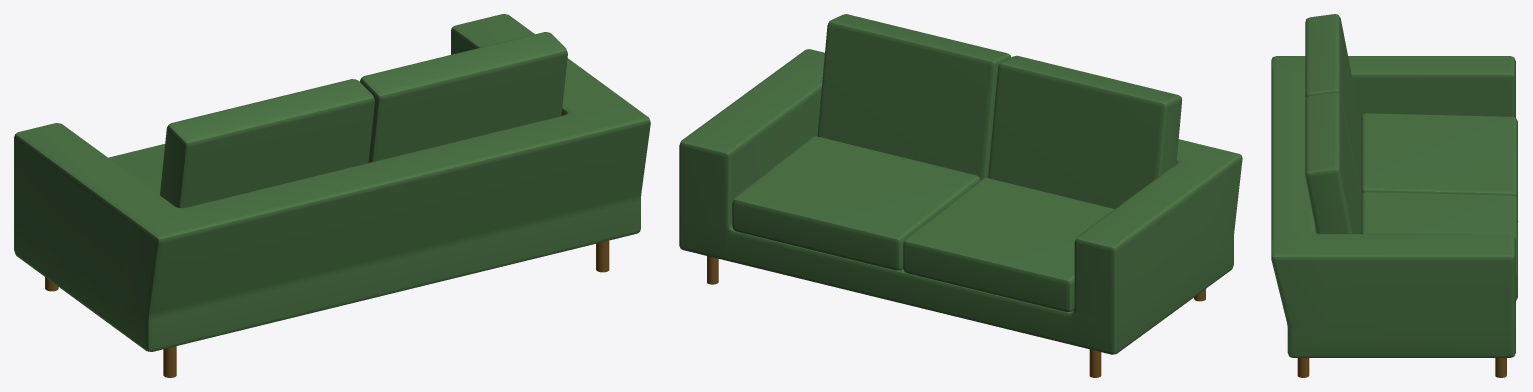
File: Sofa.fbx
The picture shows the model from 3 angles, left to right: view 1: azimuth 30°, elevation 25°; view 2: azimuth 150°, elevation 25°; view 3: azimuth 270°, elevation 25°; orthographic projection. The views are drawn at different scales.
Parts seen in each view (by area): view 1: Sofa1, SofaSeat7, SofaSeat, SofaSeat6; view 2: Sofa1, SofaSeat, SofaSeat7, SofaSeat5, SofaSeat6; view 3: Sofa1, SofaSeat6, SofaSeat5, SofaSeat, SofaSeat7.
Boxes of the visible parts, x1,y1,x2,y2 form: Sofa1: (14,14,650,377); SofaSeat7: (160,79,374,207); SofaSeat: (359,32,567,162); SofaSeat6: (108,144,164,194); Sofa1: (679,49,1242,377); SofaSeat: (817,14,1011,179); SofaSeat7: (988,55,1182,208); SofaSeat5: (732,136,980,270); SofaSeat6: (903,178,1114,312); Sofa1: (1271,56,1518,377); SofaSeat6: (1361,113,1517,199); SofaSeat5: (1361,192,1517,300); SofaSeat: (1305,92,1361,233); SofaSeat7: (1305,14,1361,201).
Bounding box in the file's own units: 2.89 × 1.29 × 1.49.
